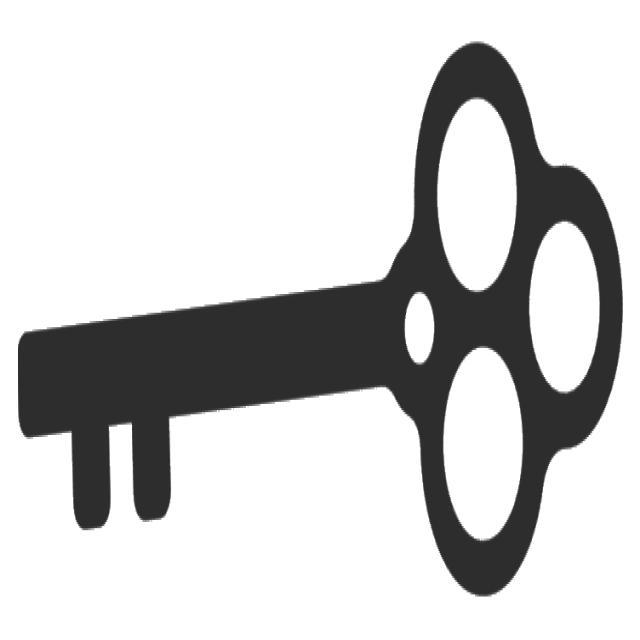key: (7, 24, 631, 608)
